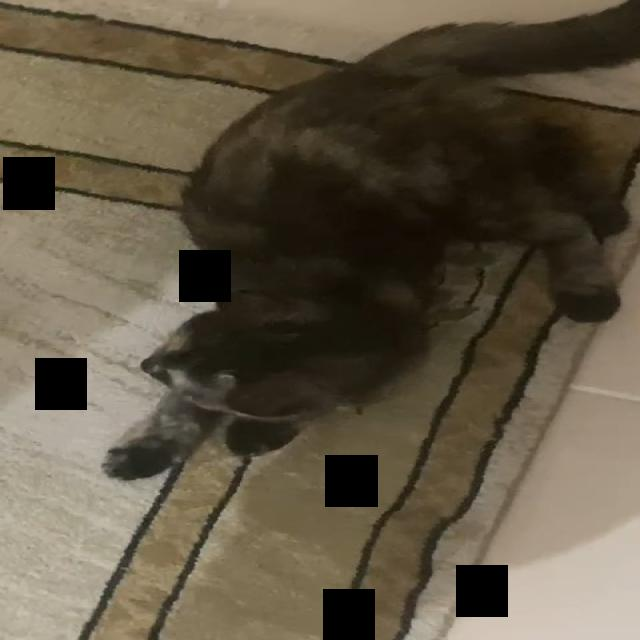authorized: (84, 0, 637, 638)
